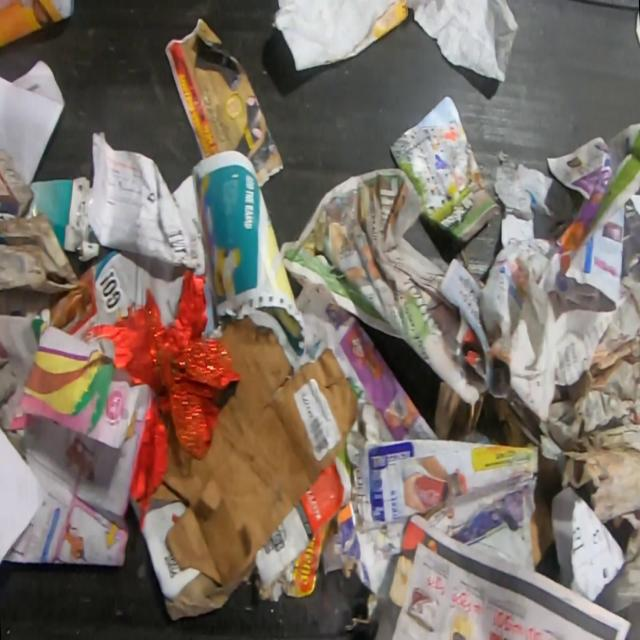cardboard: (146, 316, 360, 589), (320, 435, 538, 598), (0, 147, 81, 314), (22, 174, 100, 264), (430, 377, 530, 445), (530, 446, 562, 572)
soft_plastic: (80, 269, 244, 503)
